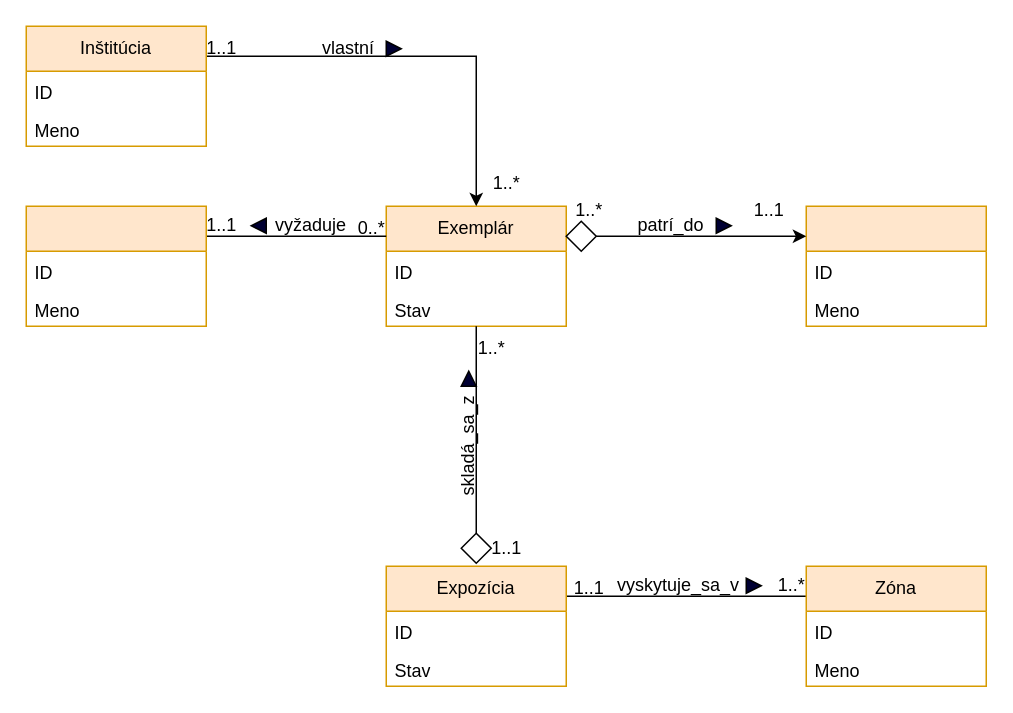
The diagram is 1013 pixels wide and 713 high, and some of its shapes have lost their labels. The shapes that lost their labels are listed below. From the top down, each one's box as (x1, y1, x2, y2) in pixels, then its label:
(25, 205, 206, 326): Kontrola
(805, 205, 986, 326): Kategoria
